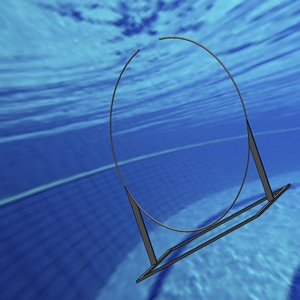circle: (107, 36, 292, 284)
